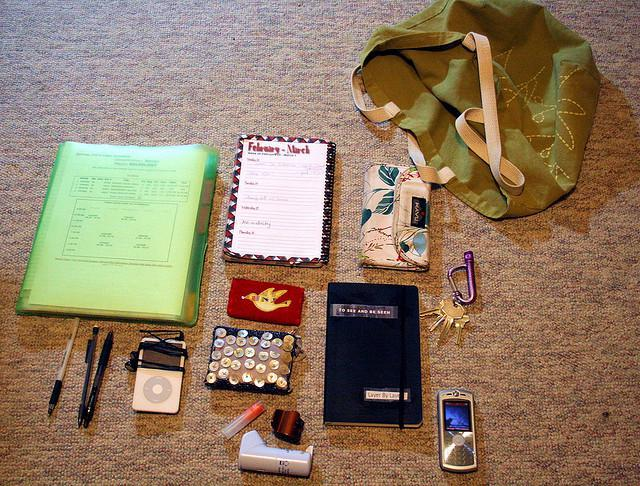phone: (430, 379, 484, 477)
